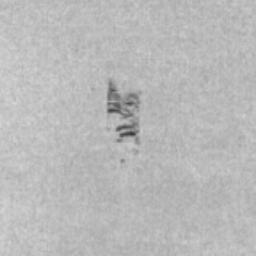Secondary rust skin: (107, 80, 142, 154)
